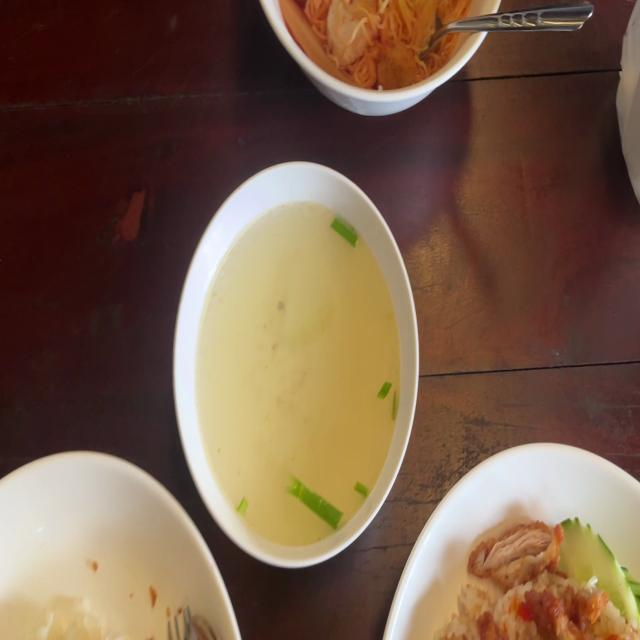chicken_rice: (444, 512, 640, 640)
crunchy_squid: (278, 0, 355, 79)
cucumber: (557, 517, 640, 626)
fried_chicken: (480, 583, 614, 640), (464, 518, 563, 585)
fried_fish_balls: (326, 0, 379, 61)
noodle: (277, 0, 489, 95)
